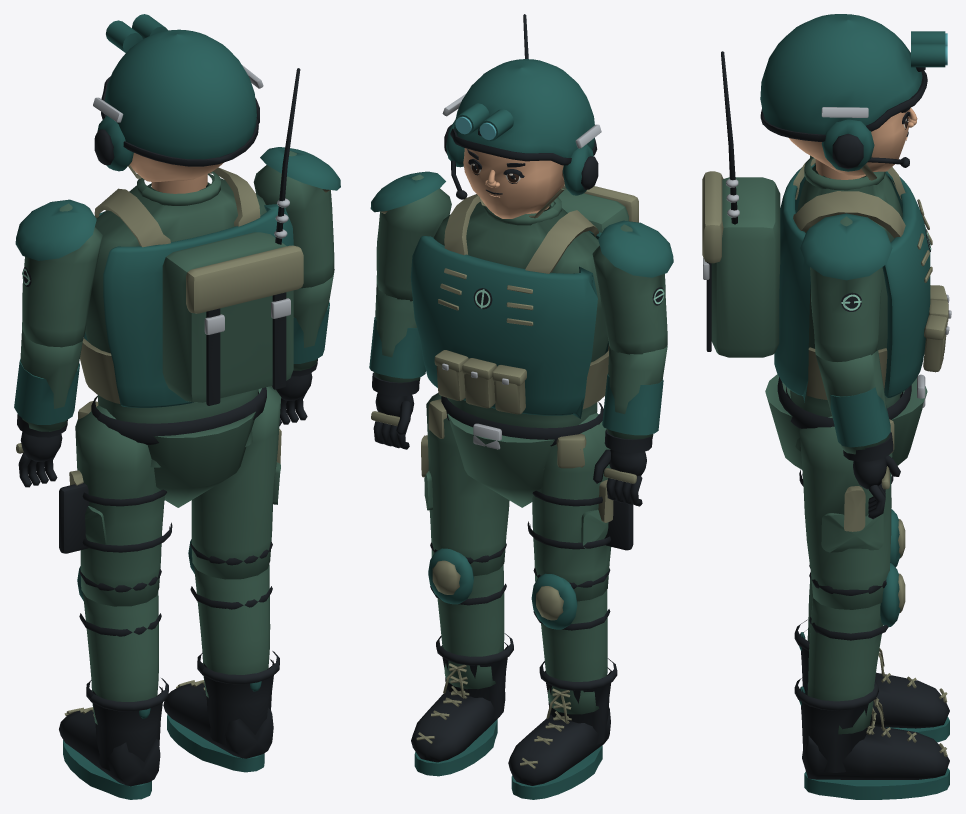
File: kf-wren.glb
3 views of the same model, side by side, from view 1: azimuth 30°, elevation 25°; view 2: azimuth 150°, elevation 25°; view 3: azimuth 270°, elevation 25° (orthographic). The views are drawn at different scales.
Visible parts, largest first — view 1: Torso Woven uniform, Head Ceramic armor, Leg_R Woven uniform, Torso Ceramic armor, Torso Webbing, Knee_L Rubber and hair, Leg_L Woven uniform, Knee_R Rubber and hair, Knee_R Woven uniform, Knee_L Woven uniform, Arm_R Woven uniform, Torso Rubber and hair (+14 smaller); view 2: Torso Ceramic armor, Torso Woven uniform, Head Ceramic armor, Torso Webbing, Leg_R Woven uniform, Knee_R Rubber and hair, Knee_L Rubber and hair, Leg_L Woven uniform, Arm_R Woven uniform, Knee_R Woven uniform, Knee_L Woven uniform, Arm_L Woven uniform (+18 smaller); view 3: Torso Woven uniform, Head Ceramic armor, Torso Ceramic armor, Knee_L Rubber and hair, Leg_L Woven uniform, Torso Webbing, Knee_L Woven uniform, Arm_L Woven uniform, Arm_L Ceramic armor, Knee_R Rubber and hair, Torso Rubber and hair, Elbow_L Ceramic armor (+10 smaller).
Part boxes in pixels (box(x1,y1,x2,y2)): Torso Woven uniform: box(85, 171, 293, 507); Head Ceramic armor: box(94, 14, 259, 171); Leg_R Woven uniform: box(75, 405, 164, 606); Torso Ceramic armor: box(84, 204, 293, 407); Torso Webbing: box(78, 167, 303, 419); Knee_L Rubber and hair: box(163, 542, 279, 772); Leg_L Woven uniform: box(191, 386, 281, 579); Knee_R Rubber and hair: box(59, 569, 168, 799); Knee_R Woven uniform: box(83, 591, 158, 724); Knee_L Woven uniform: box(194, 564, 270, 697); Arm_R Woven uniform: box(22, 203, 102, 347); Torso Rubber and hair: box(91, 68, 300, 444); Torso Ceramic armor: box(410, 230, 608, 418); Torso Woven uniform: box(433, 188, 628, 507); Head Ceramic armor: box(444, 59, 598, 195); Torso Webbing: box(428, 184, 638, 468); Leg_R Woven uniform: box(532, 413, 611, 601); Knee_R Rubber and hair: box(508, 567, 617, 799); Knee_L Rubber and hair: box(411, 542, 513, 776); Leg_L Woven uniform: box(424, 393, 509, 576); Arm_R Woven uniform: box(592, 224, 667, 354); Knee_R Woven uniform: box(541, 589, 607, 714); Knee_L Woven uniform: box(437, 564, 504, 689); Arm_L Woven uniform: box(376, 174, 451, 301); Torso Woven uniform: box(711, 157, 927, 469); Head Ceramic armor: box(760, 14, 947, 171); Torso Ceramic armor: box(774, 164, 930, 402); Knee_L Rubber and hair: box(794, 572, 949, 799); Leg_L Woven uniform: box(799, 416, 892, 609); Torso Webbing: box(702, 158, 948, 453); Knee_L Woven uniform: box(807, 597, 883, 734); Arm_L Woven uniform: box(810, 216, 882, 361); Arm_L Ceramic armor: box(800, 213, 892, 280); Knee_R Rubber and hair: box(794, 564, 949, 742); Torso Rubber and hair: box(706, 51, 931, 428); Elbow_L Ceramic armor: box(830, 387, 890, 447).
Bounding box in the file's own units: 0.8471 × 1.91 × 0.5833.
